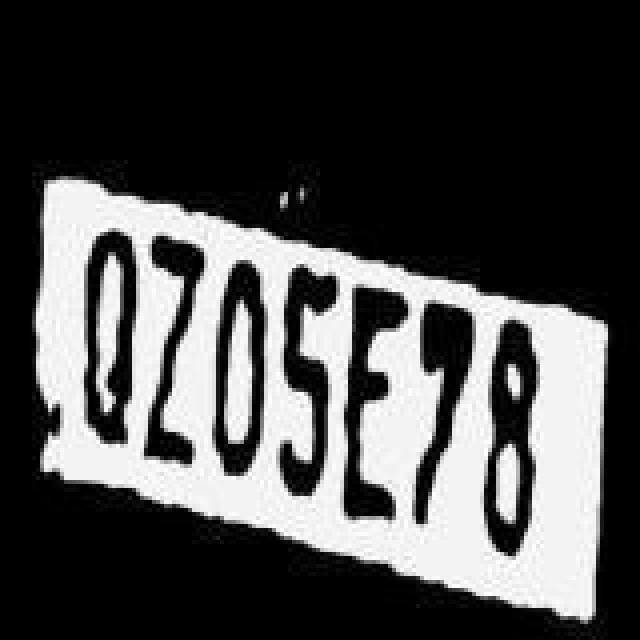5: (280, 262, 336, 506)
7: (408, 296, 480, 536)
8: (484, 312, 540, 568)
E: (340, 282, 412, 534)
O: (212, 248, 268, 488)
Q: (80, 226, 136, 446)
Z: (136, 212, 208, 476)
